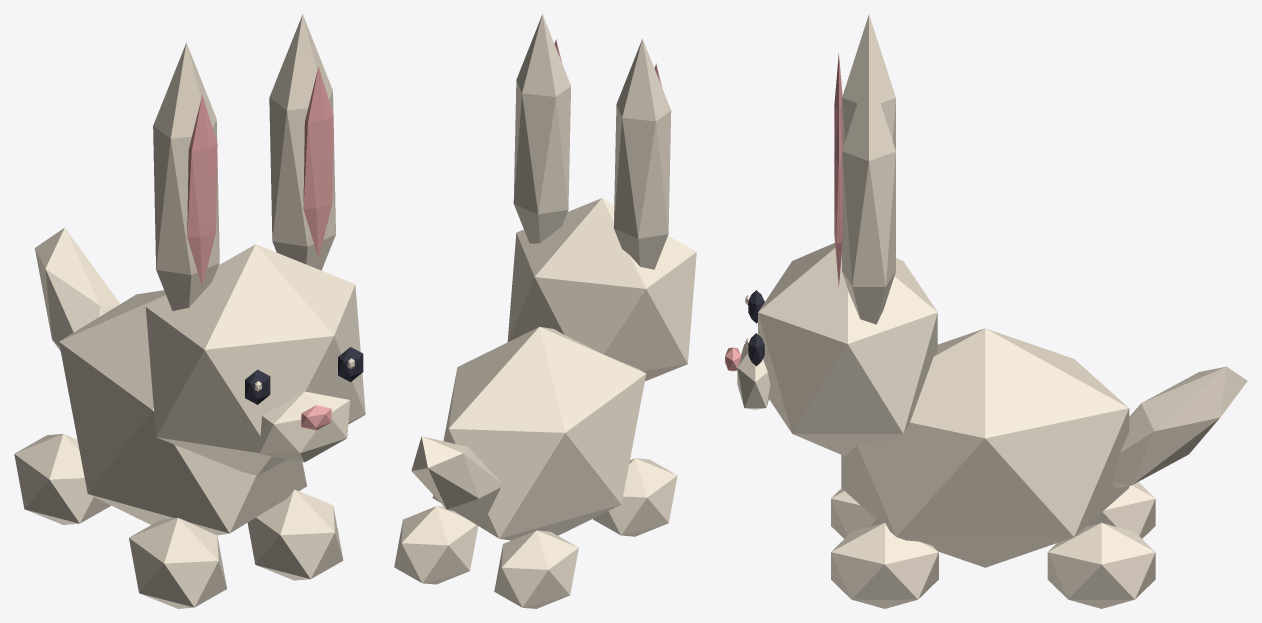
The model's file is pet_bunny.glb.
3 views of the same model, side by side, from view 1: azimuth 30°, elevation 25°; view 2: azimuth 150°, elevation 25°; view 3: azimuth 270°, elevation 25° (orthographic). The views are drawn at different scales.
Visible parts, largest first — view 1: head, body, ear, ear.001, paw, paw.001, back_paw, tail_bob, muzzle, ear_inner.001, ear_inner, eye (+2 smaller); view 2: body, head, ear, ear.001, back_paw, back_paw.001, tail_bob, paw; view 3: body, head, ear.001, tail_bob, back_paw.001, paw.001, ear, back_paw, muzzle, paw, ear_inner.001.
Part boxes in pixels (x1,y1,x2,y2): head: [145, 244, 365, 475]; body: [59, 290, 306, 535]; ear: [153, 42, 219, 310]; ear.001: [269, 14, 335, 270]; paw: [129, 517, 226, 608]; paw.001: [247, 489, 343, 580]; back_paw: [14, 434, 111, 524]; tail_bob: [34, 227, 119, 350]; muzzle: [259, 391, 349, 462]; ear_inner.001: [303, 67, 333, 257]; ear_inner: [187, 95, 217, 286]; eye: [245, 369, 270, 404]; body: [432, 326, 646, 540]; head: [507, 198, 696, 381]; ear: [613, 38, 671, 269]; ear.001: [513, 14, 570, 243]; back_paw: [494, 530, 578, 608]; back_paw.001: [394, 506, 478, 584]; tail_bob: [411, 436, 501, 517]; paw: [593, 458, 677, 536]; body: [841, 328, 1129, 567]; head: [758, 243, 937, 456]; ear.001: [842, 68, 895, 324]; tail_bob: [1112, 366, 1247, 488]; back_paw.001: [1047, 522, 1155, 608]; paw.001: [831, 523, 938, 608]; ear: [842, 14, 895, 150]; back_paw: [1086, 482, 1155, 538]; muzzle: [737, 344, 770, 409]; paw: [831, 488, 880, 538]; ear_inner.001: [834, 107, 842, 286].
Size of the model in its own units: 0.4114 by 1.13 by 0.9891.
